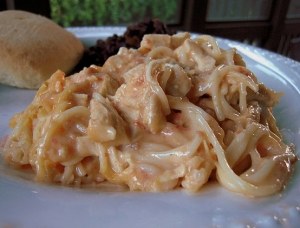plain spaghetti: (105, 74, 276, 207)
slice of bread: (1, 15, 79, 85)
